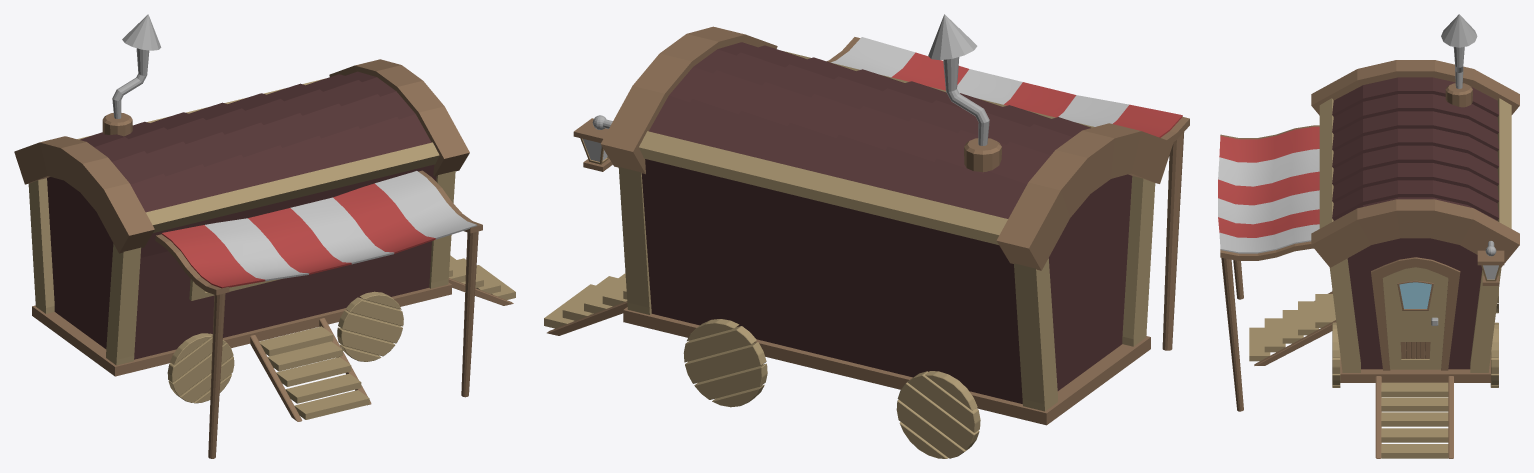
The model's file is FoodCar.fbx.
3 views of the same model, side by side, from view 1: azimuth 30°, elevation 25°; view 2: azimuth 150°, elevation 25°; view 3: azimuth 270°, elevation 25° (orthographic). The views are drawn at different scales.
Visible parts, largest first — view 1: Plane.015, Plane.001, Plane.010, Plane.002, Plane, Cube, Circle, Plane.073, Vert.001, Plane.017, Plane.024, Plane.022 (+7 smaller); view 2: Plane.001, Plane.015, Plane.002, Plane, Circle, Cube, Plane.010, Plane.073, Vert.001, Circle.002, Vert, Plane.016 (+3 smaller); view 3: Plane.015, Plane.002, Plane.010, Plane.001, Plane.005, Plane, Cube, Plane.004, Plane.073, Vert.001, Plane.029, Circle (+16 smaller).
Part boxes in pixels (bbox=[...]): Plane.015: bbox=[79, 71, 431, 212]; Plane.001: bbox=[47, 164, 436, 359]; Plane.010: bbox=[161, 171, 477, 288]; Plane.002: bbox=[14, 59, 469, 253]; Plane: bbox=[28, 171, 455, 365]; Cube: bbox=[77, 78, 439, 232]; Circle: bbox=[167, 291, 403, 403]; Plane.073: bbox=[32, 282, 451, 376]; Vert.001: bbox=[208, 231, 478, 458]; Plane.017: bbox=[155, 170, 482, 295]; Plane.024: bbox=[285, 373, 361, 403]; Plane.022: bbox=[294, 390, 369, 419]; Plane.001: bbox=[641, 159, 1132, 403]; Plane.015: bbox=[649, 42, 1091, 218]; Plane.002: bbox=[601, 26, 1173, 270]; Plane: bbox=[618, 167, 1155, 411]; Circle: bbox=[683, 319, 980, 458]; Cube: bbox=[639, 51, 1094, 244]; Plane.010: bbox=[831, 37, 1182, 137]; Plane.073: bbox=[623, 307, 1150, 425]; Vert.001: bbox=[1162, 132, 1184, 350]; Circle.002: bbox=[928, 14, 977, 60]; Vert: bbox=[943, 57, 989, 145]; Plane.016: bbox=[573, 118, 612, 171]; Plane.015: bbox=[1332, 77, 1498, 220]; Plane.002: bbox=[1311, 60, 1519, 267]; Plane.010: bbox=[1218, 126, 1319, 253]; Plane.001: bbox=[1347, 238, 1482, 369]; Plane.005: bbox=[1382, 267, 1448, 369]; Plane: bbox=[1329, 258, 1501, 372]; Cube: bbox=[1319, 98, 1511, 228]; Plane.004: bbox=[1371, 257, 1460, 370]; Plane.073: bbox=[1340, 355, 1490, 382]; Vert.001: bbox=[1221, 258, 1243, 411]; Plane.029: bbox=[1375, 376, 1453, 458]; Circle: bbox=[1332, 290, 1498, 387].
Size of the model in its own units: 2150 by 1649 by 1458.
